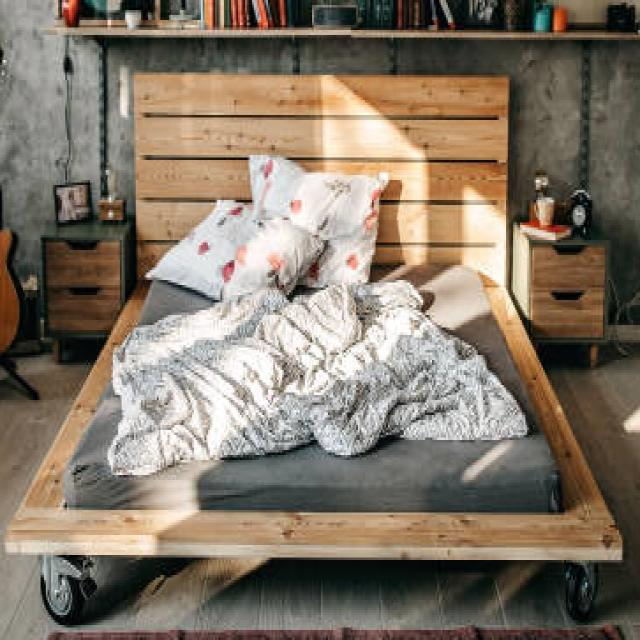bed: (44, 197, 537, 550)
